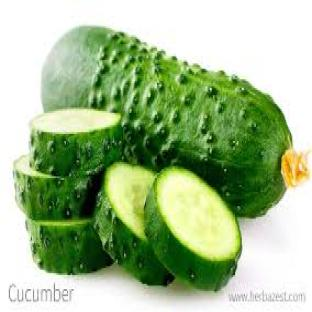Cucumber: (42, 27, 292, 216), (146, 168, 241, 290), (95, 163, 172, 285), (30, 108, 121, 176), (14, 156, 97, 220), (27, 219, 112, 273)
